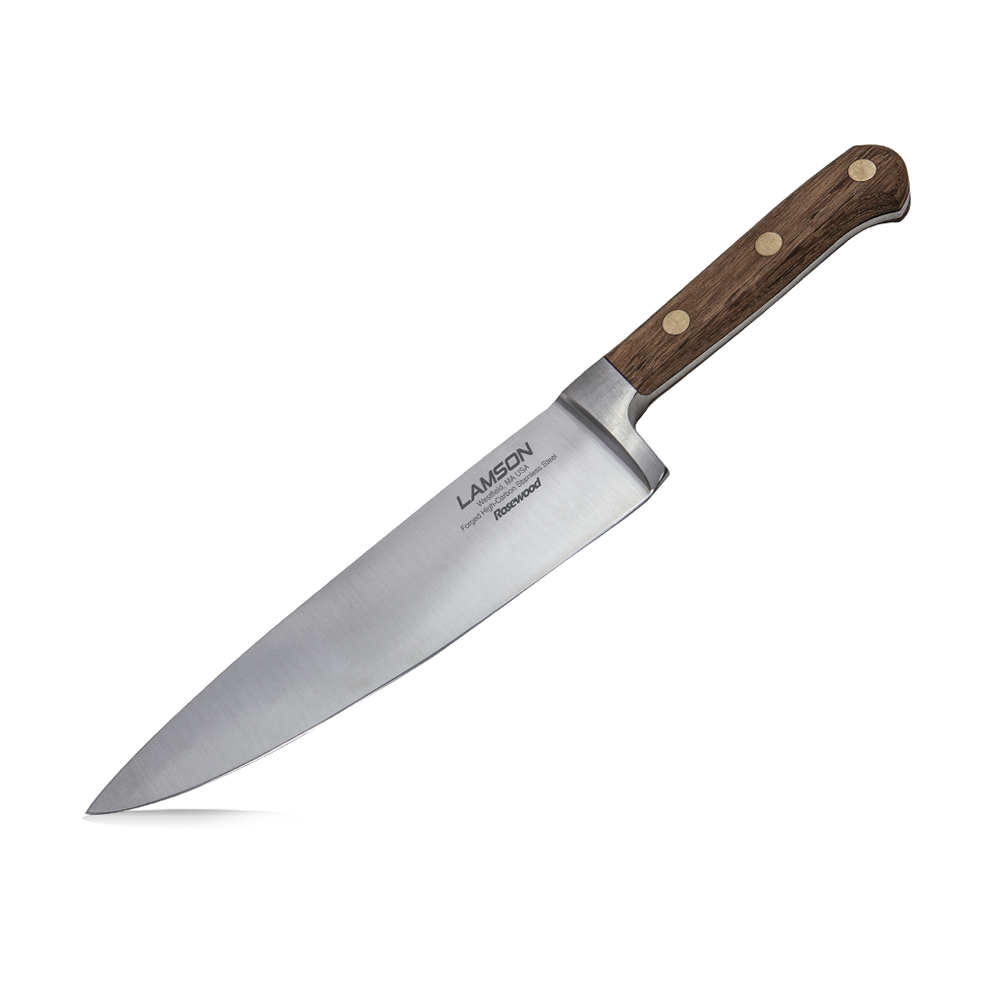knife: (86, 143, 917, 813)
